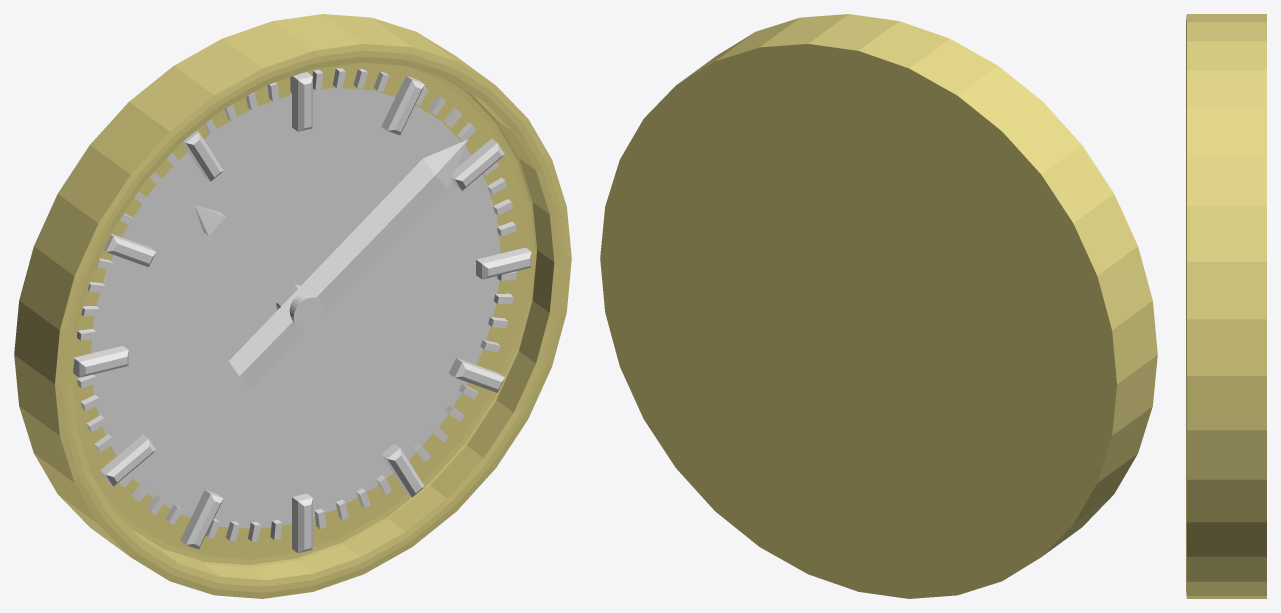
Rendered from Wall Clock.fbx.
The picture shows the model from 3 angles, left to right: view 1: azimuth 30°, elevation 25°; view 2: azimuth 150°, elevation 25°; view 3: azimuth 270°, elevation 25°; orthographic projection.
Parts seen in each view (by area): view 1: Cylinder.009, Circle, Cube.002, Circle.001, Cube, Cylinder.010; view 2: Cylinder.009; view 3: Cylinder.009.
Boxes of the visible parts, x1,y1,x2,y2 form: Cylinder.009: (14,14,571,598); Circle: (73,72,531,553); Cube.002: (228,139,468,387); Circle.001: (77,68,516,541); Cube: (194,204,343,351); Cylinder.010: (276,284,324,330); Cylinder.009: (600,14,1157,598); Cylinder.009: (1186,14,1266,598).
Bounding box in the file's own units: 38.52 × 38.52 × 5.31.
